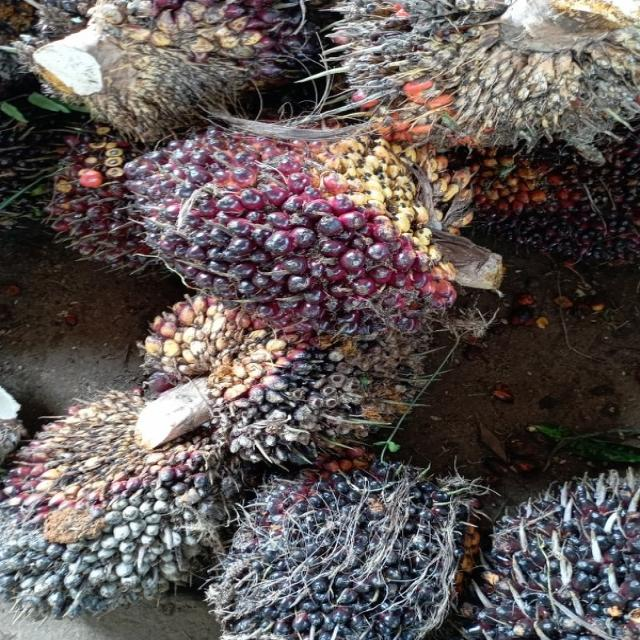fraksi 00: (0, 410, 239, 619), (213, 460, 468, 640), (474, 460, 640, 640)
fraksi 1: (127, 125, 470, 341)
